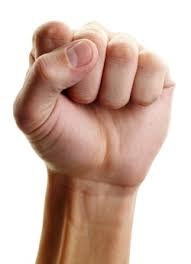fist: (10, 17, 178, 193)
